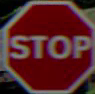Stop: (5, 12, 87, 76)
